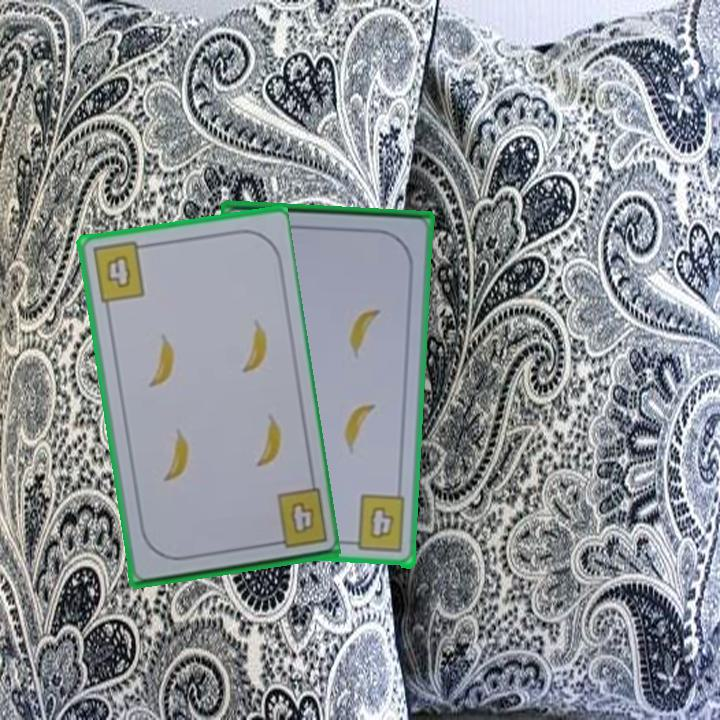4b: (265, 485, 330, 552), (88, 238, 151, 306), (343, 492, 408, 556)
